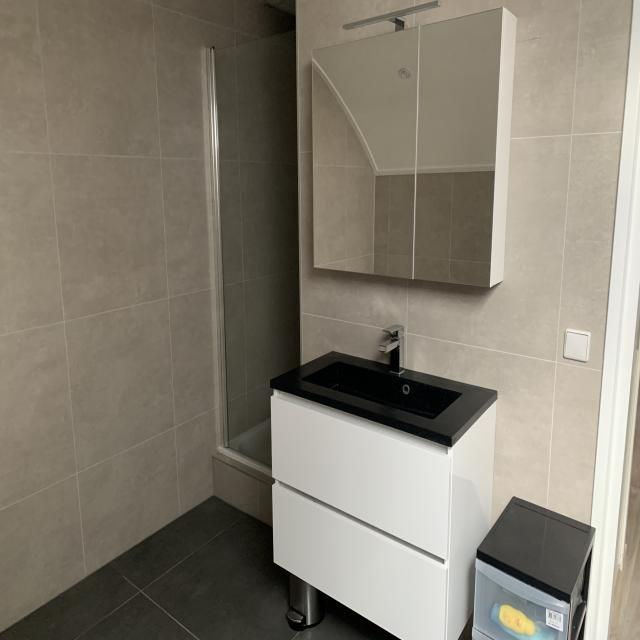douche: (200, 25, 298, 527)
wastafel: (270, 390, 498, 640), (268, 324, 497, 449)
